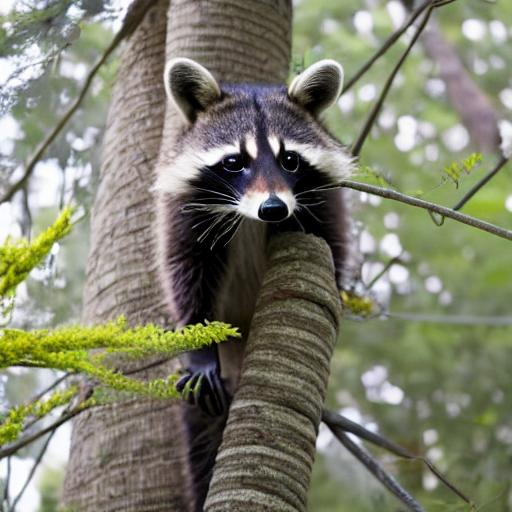raccoon: (147, 48, 377, 322)
